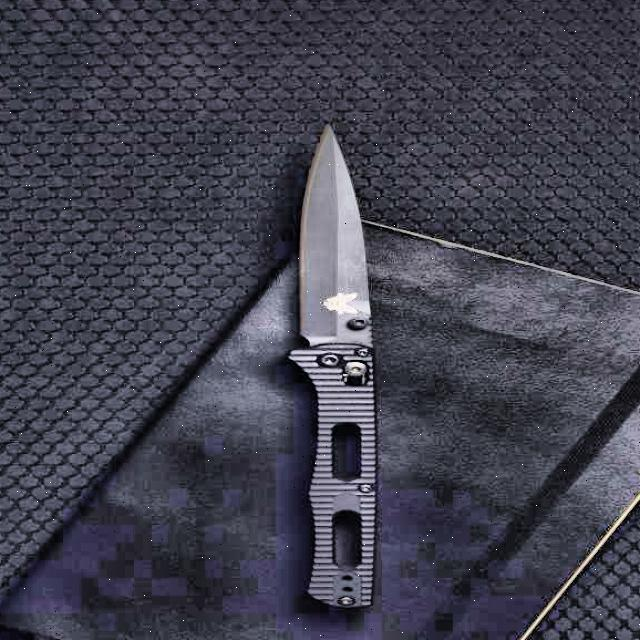knife: (274, 124, 401, 610)
